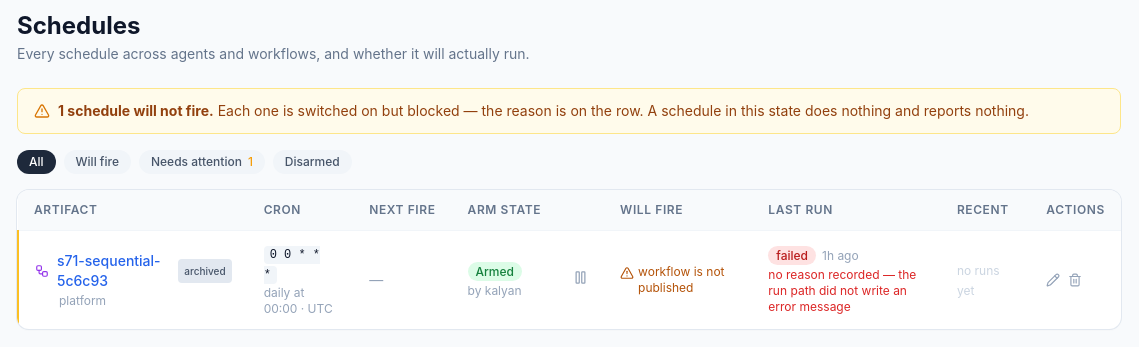
it: SchedulesPage › drops a row out of the attention count once it is disarmed
expect the element with test id "schedules-attention-banner" shows "1 schedule will not fire": met, box 17,88 -> 1121,134
Click the button with test id "schedule-arm-toggle". click: (581, 278)
box: 573,270 -> 588,285
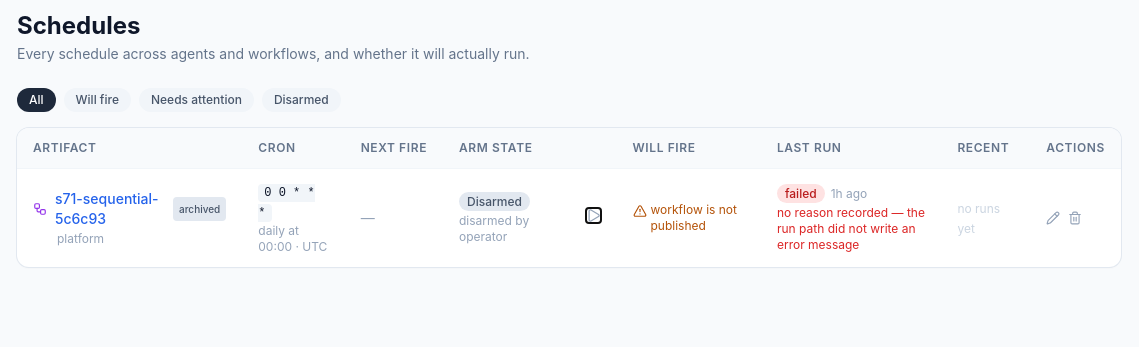
expect the element with test id "schedules-attention-banner" is gone: met
